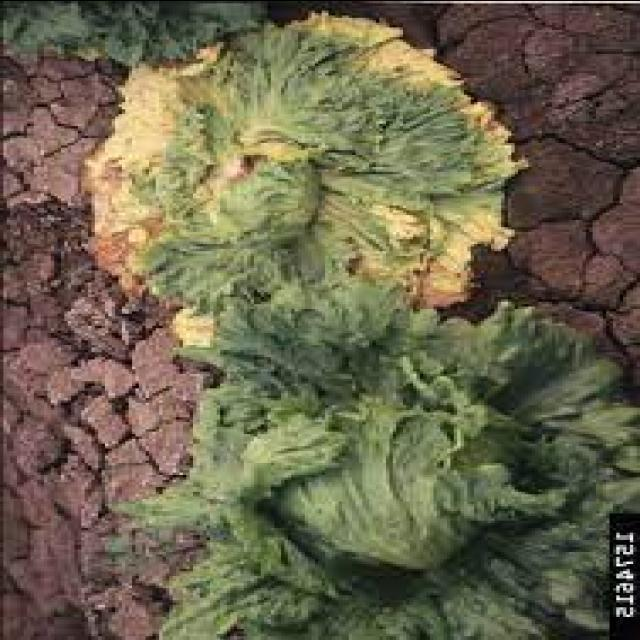Wilt_and_leaf_blight_on_lettuce: (120, 60, 464, 306)
